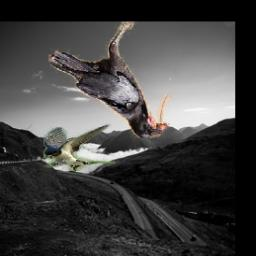Crow: (48, 22, 175, 143)
Swallow: (43, 124, 115, 172)
